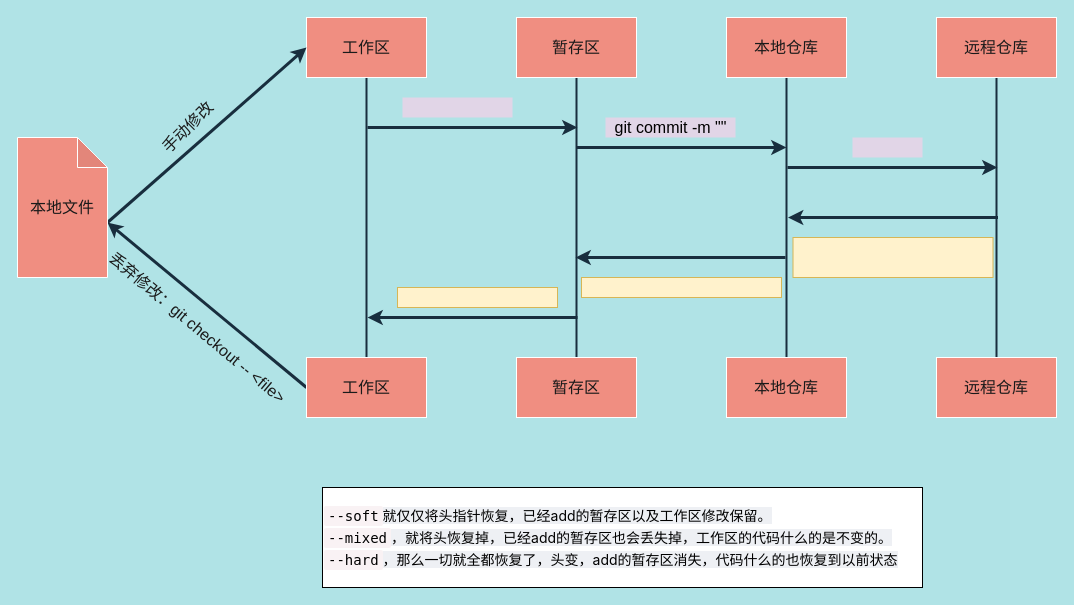
The diagram is 1074 pixels wide and 605 high, and some of its shapes have lost their labels. Each missing label, with the centre of its shape:
"git add <file>" goes at (x=457, y=107).
"git push" goes at (x=887, y=147).
"git reset --solf/mixed/hard" goes at (x=681, y=287).
"git reset --solf/mixed/hard HEAD^" goes at (x=892, y=257).
"git restore --staged" goes at (x=477, y=297).
